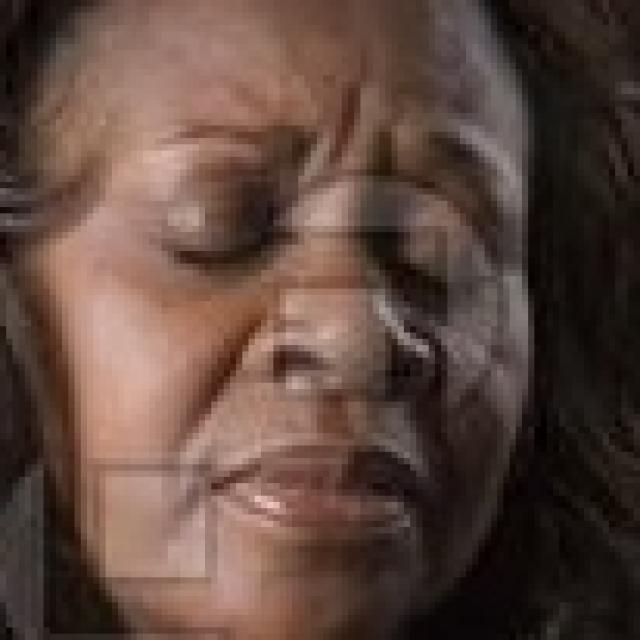Eyeclosed: (164, 226, 270, 275)
